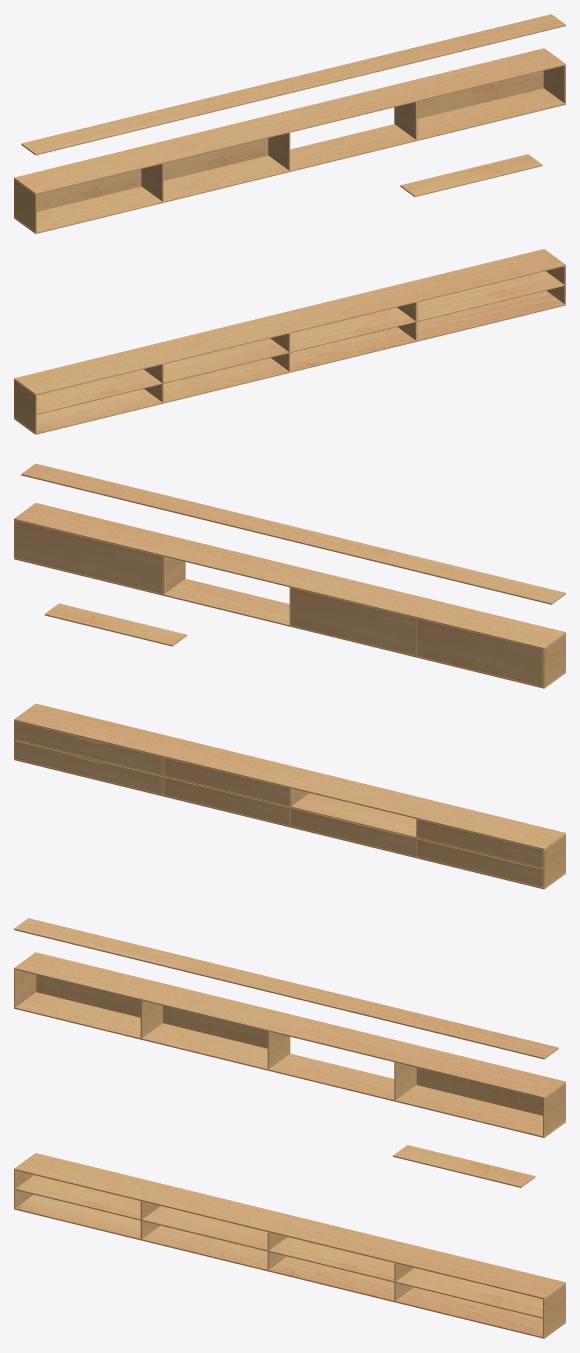
File: dianshigui.fbx
3 renders of one model, top to bottom at view 1: azimuth 30°, elevation 25°; view 2: azimuth 150°, elevation 25°; view 3: azimuth 330°, elevation 25°, orthographic.
Visible parts, largest first — view 1: dianshigui; view 2: dianshigui; view 3: dianshigui.
Boxes of the visible parts, x1,y1,x2,y2 form: dianshigui: (14,14,565,434); dianshigui: (14,463,565,889); dianshigui: (14,918,565,1338).
Size of the model in its own units: 446 by 226 by 31.62.
